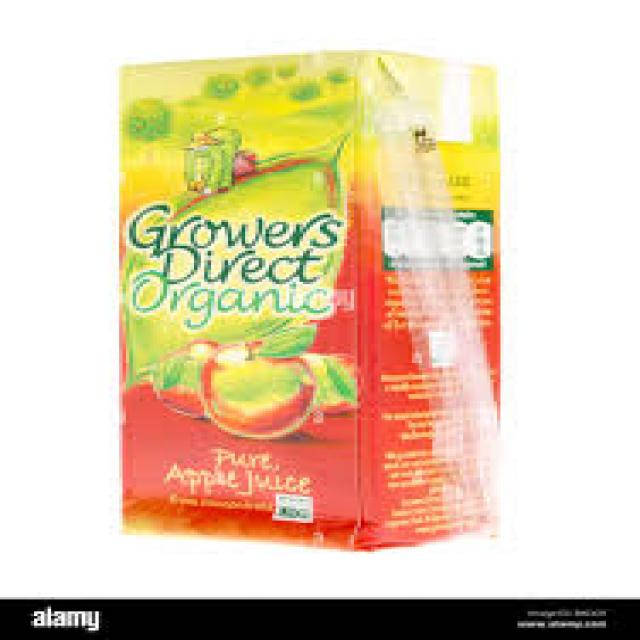non_white_jug: (96, 40, 524, 558)
